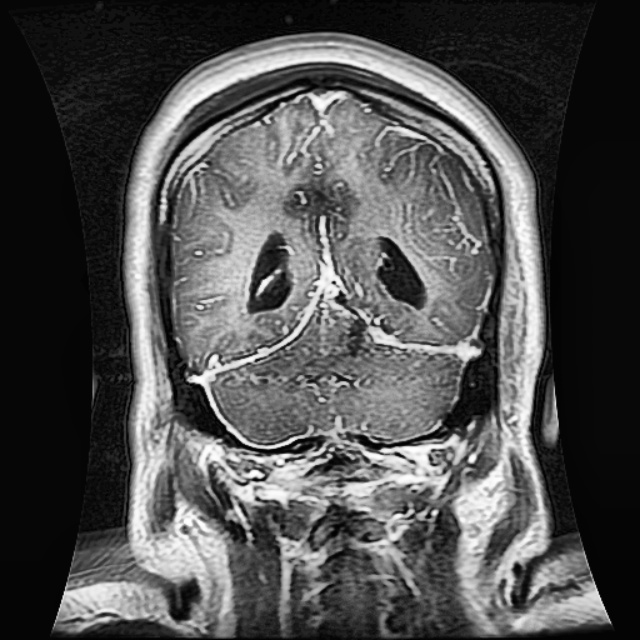Meningioma: (308, 212, 363, 322)
